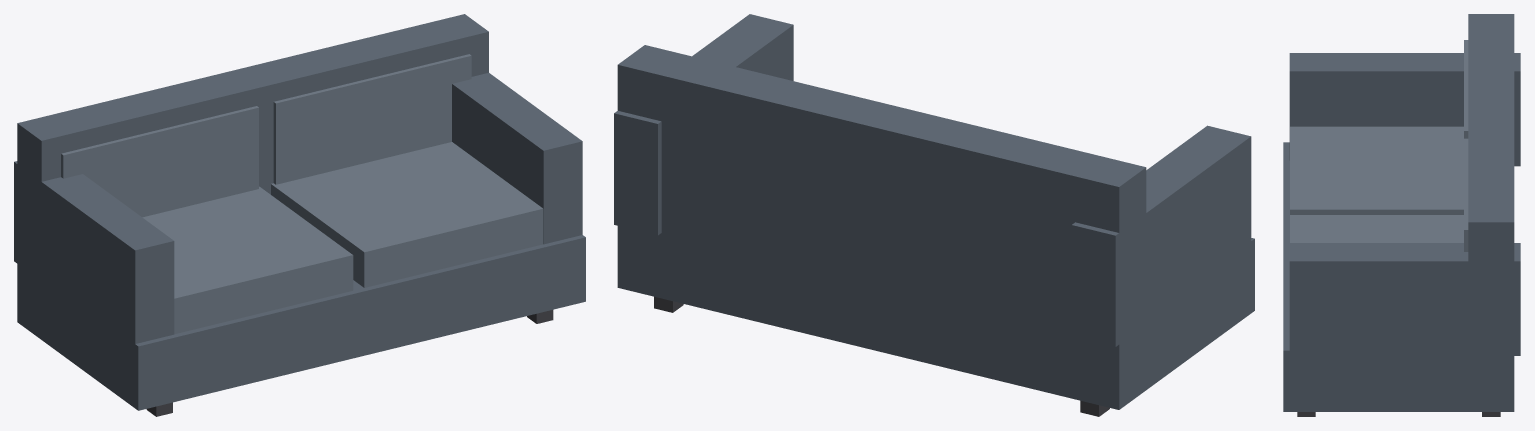
The model's file is office_sofa.glb.
3 renders of one model, left to right at view 1: azimuth 30°, elevation 25°; view 2: azimuth 150°, elevation 25°; view 3: azimuth 270°, elevation 25°, orthographic. The views are drawn at different scales.
Visible parts, largest first — view 1: Office Sofa; view 2: Office Sofa; view 3: Office Sofa.
Part boxes in pixels (bbox=[...]): Office Sofa: bbox=[14, 14, 585, 416]; Office Sofa: bbox=[614, 14, 1254, 416]; Office Sofa: bbox=[1283, 14, 1520, 416].
Bounding box in the file's own units: 0.8 × 0.37 × 0.385.
